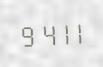four: (34, 20, 49, 47)
nine: (18, 21, 33, 47)
one: (50, 20, 65, 46), (66, 19, 81, 45)
